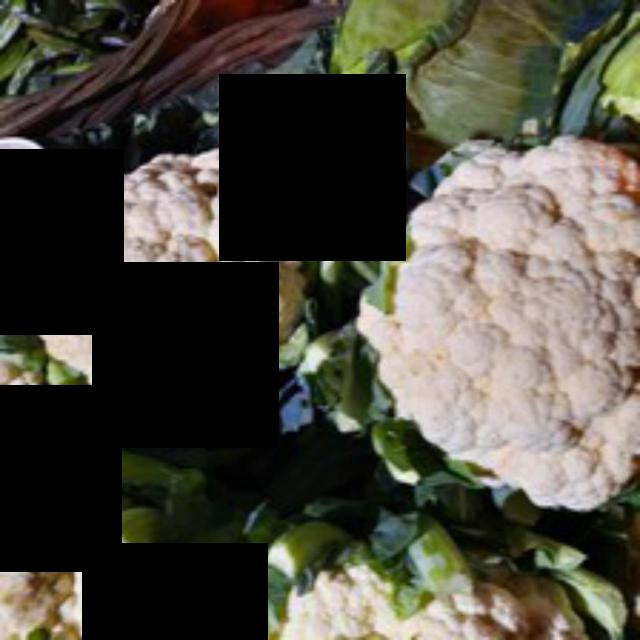cauliflower: (362, 93, 640, 531), (13, 111, 339, 423)
